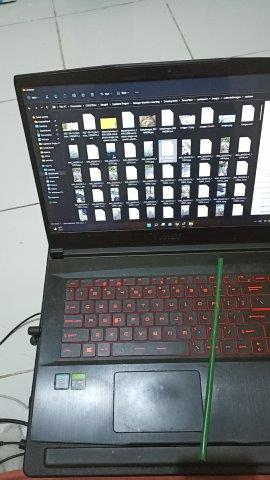sedotan: (200, 259, 223, 460)
